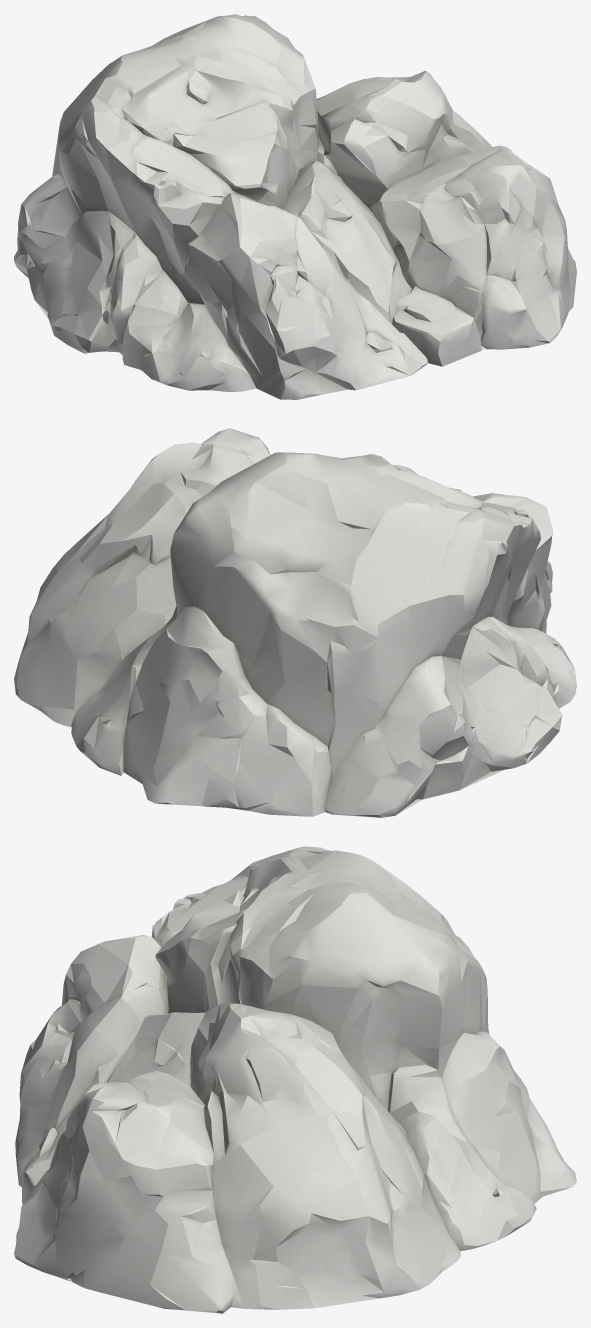
The model's file is bermuda-rocky-shoreline.glb.
3 renders of one model, top to bottom at view 1: azimuth 30°, elevation 25°; view 2: azimuth 150°, elevation 25°; view 3: azimuth 270°, elevation 25°, orthographic. The views are drawn at different scales.
Parts seen in each view (by area): view 1: output_unwrapped; view 2: output_unwrapped; view 3: output_unwrapped.
Part boxes in pixels (<box>): output_unwrapped: <box>14,14,576,399</box>; output_unwrapped: <box>14,428,576,817</box>; output_unwrapped: <box>14,846,576,1313</box>.
Bounding box in the file's own units: 1.9 × 0.9735 × 1.79.
Materials: 1 (1 with a texture image).
